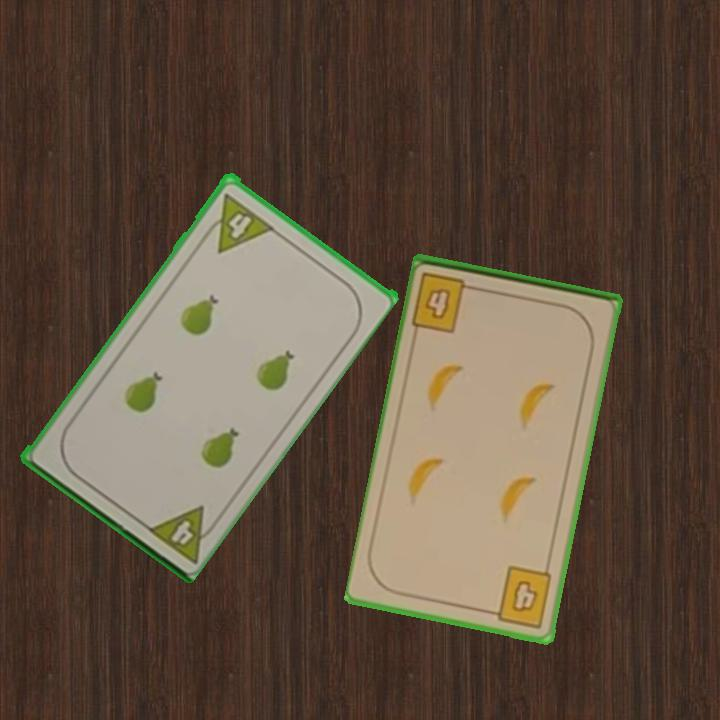4b: (409, 268, 482, 336), (484, 562, 555, 631)
4p: (142, 500, 224, 566), (198, 189, 276, 255)
